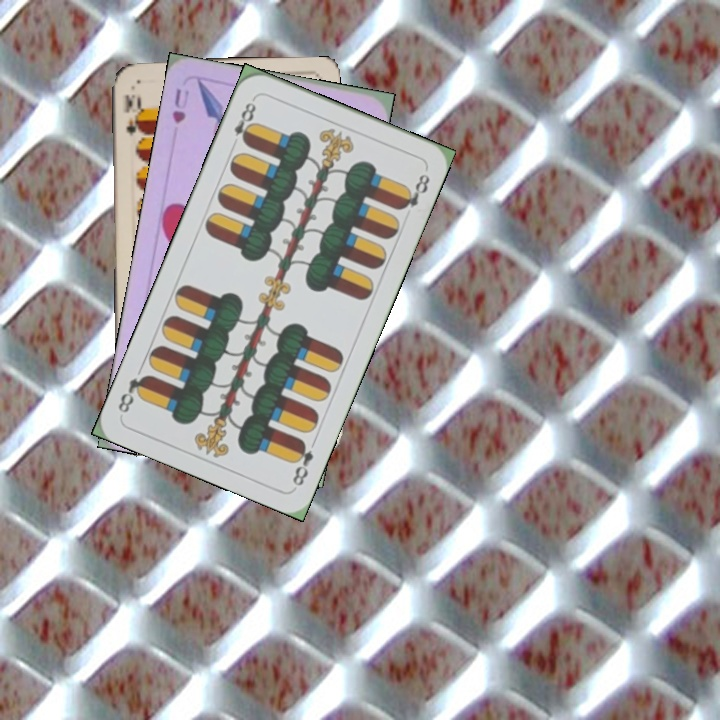E10: (119, 91, 146, 143)
E8: (227, 94, 259, 149), (288, 436, 316, 489)
HU: (168, 84, 192, 127)
